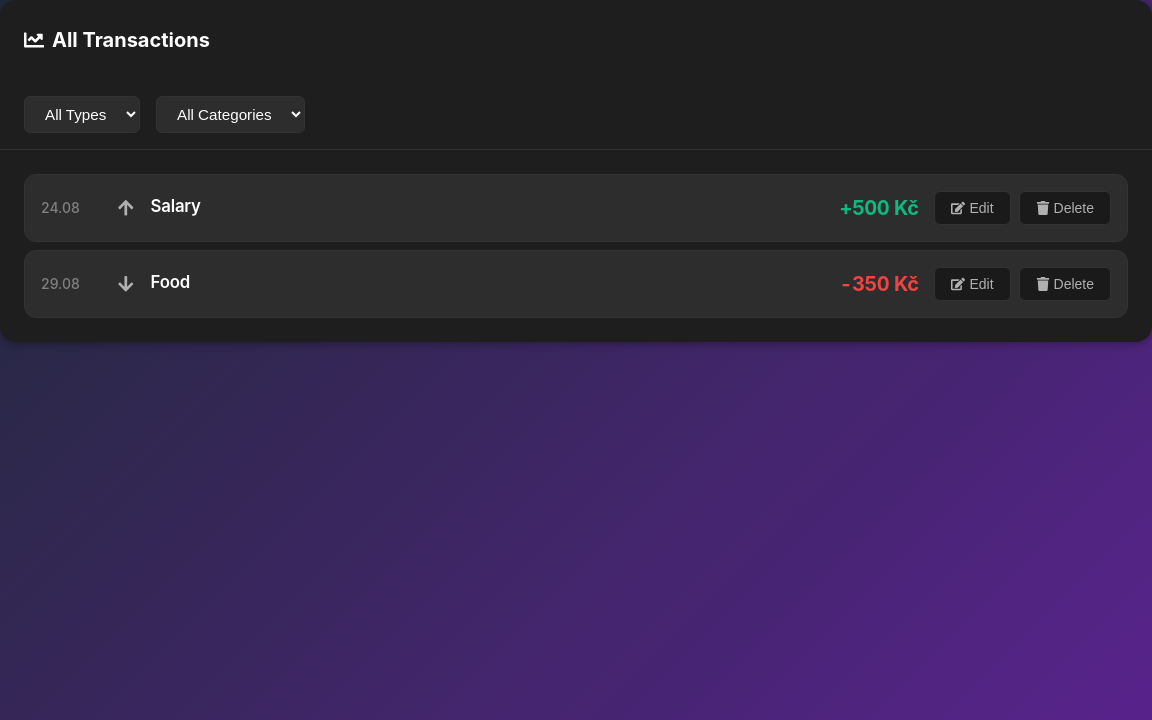
TransactionList › applies the type and category filters together
Select "Income" in the 1st dropdown showing "All Types" at (82, 114), box 24,96 -> 140,133
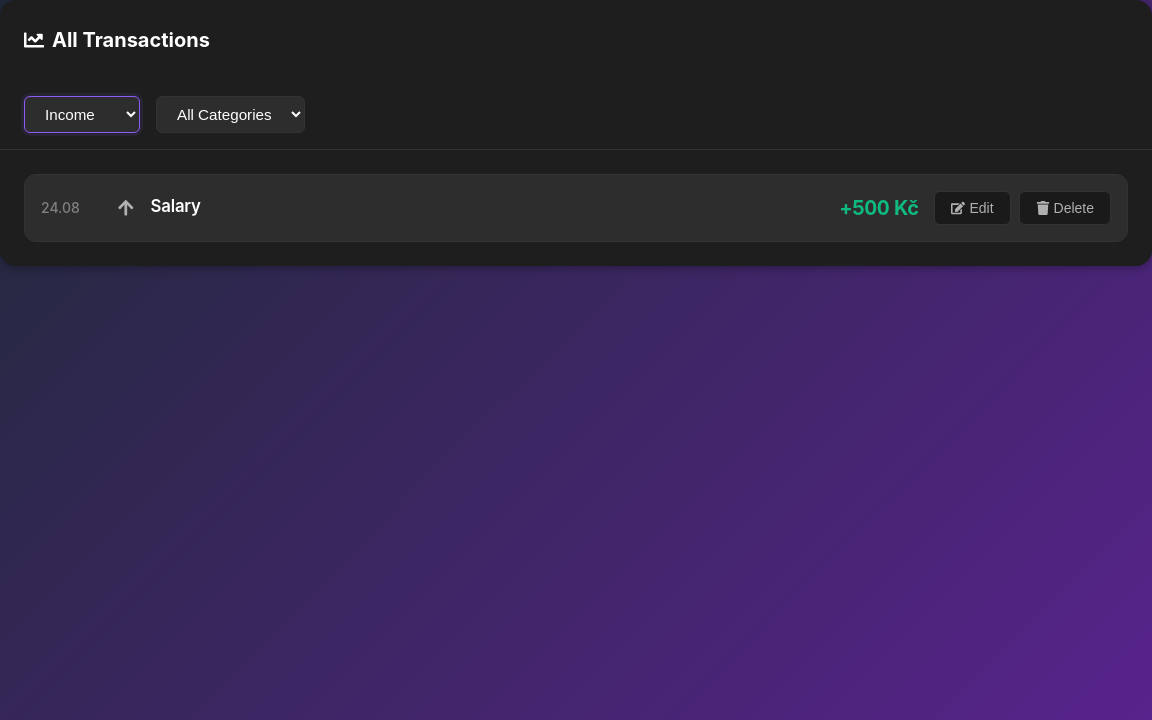
Select "Food" in the 2nd dropdown showing "All Categories" at (230, 114), box 156,96 -> 305,133
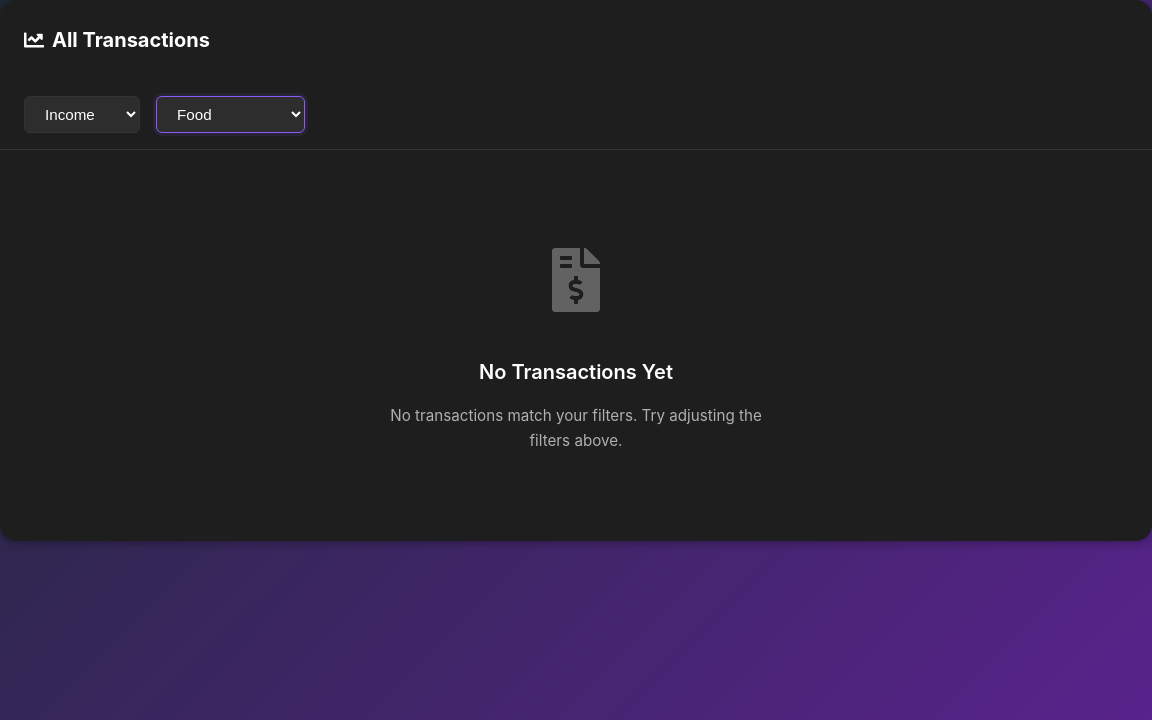
Expected: the text "No transactions match" is shown, 390,406 -> 762,450
